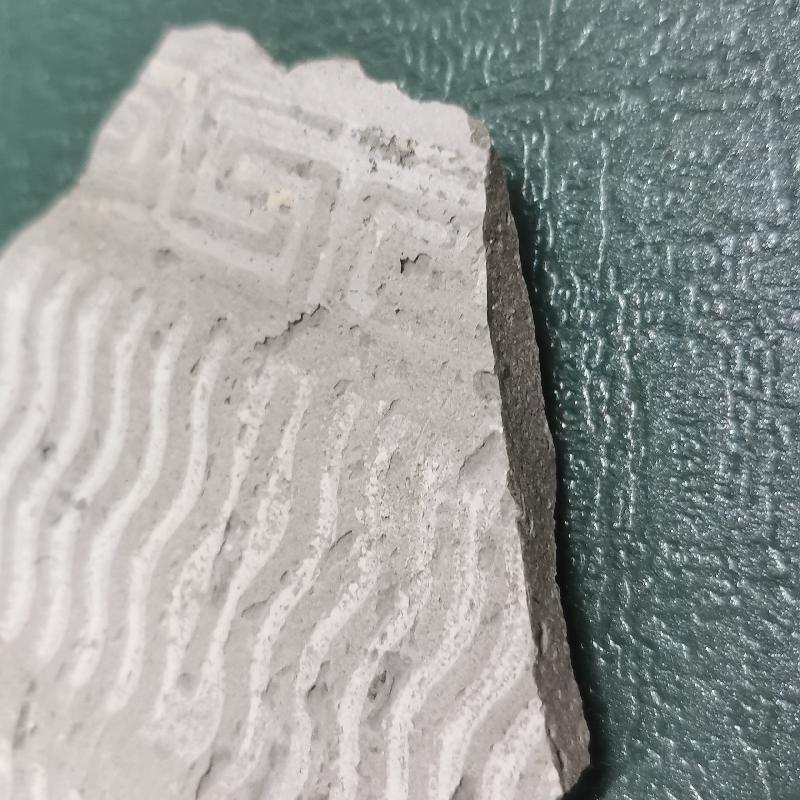tile: (1, 16, 595, 800)
